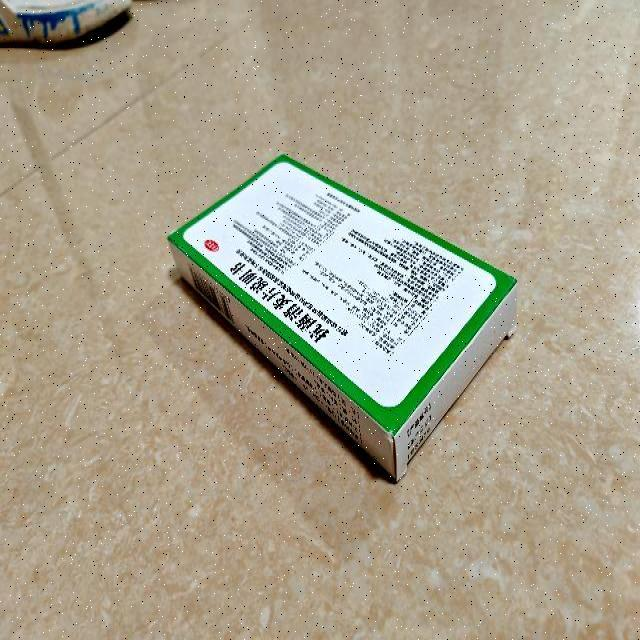box: (166, 154, 516, 484)
